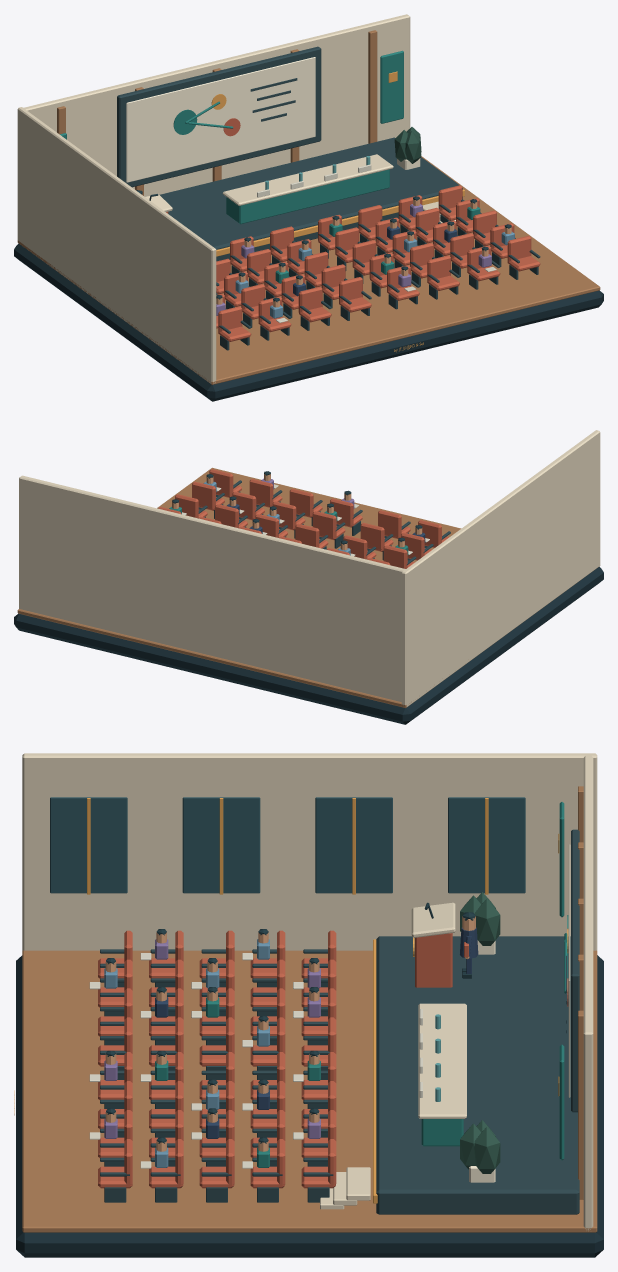
File: conference.glb
3 renders of one model, top to bottom at view 1: azimuth 30°, elevation 25°; view 2: azimuth 150°, elevation 25°; view 3: azimuth 270°, elevation 25°, orthographic. The views are drawn at different scales.
Visible parts, largest first — view 1: hall_room, hall_stage, hall_seating, hall_people, hall_details; view 2: hall_room, hall_seating, hall_people; view 3: hall_room, hall_stage, hall_seating, hall_people, hall_details.
Part boxes in pixels (<box>): hall_room: <box>14,14,603,401</box>; hall_stage: <box>117,46,464,261</box>; hall_seating: <box>216,185,540,350</box>; hall_people: <box>136,190,514,322</box>; hall_details: <box>60,50,421,169</box>; hall_room: <box>14,430,603,724</box>; hall_seating: <box>158,469,450,568</box>; hall_people: <box>169,471,429,556</box>; hall_room: <box>16,753,603,1257</box>; hall_stage: <box>320,829,579,1214</box>; hall_seating: <box>98,930,336,1202</box>; hall_people: <box>89,912,478,1168</box>; hall_details: <box>460,802,564,1182</box>.
Size of the model in its own units: 15.3 by 5.62 by 13.34.
